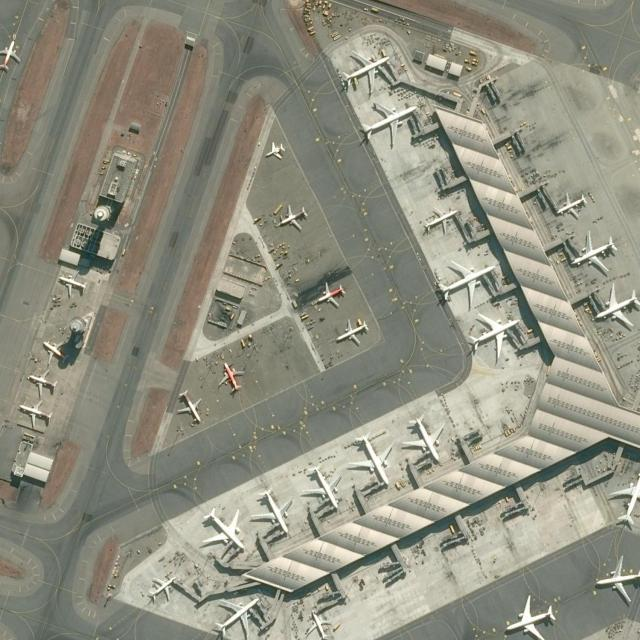Aircraft: (436, 262, 498, 312), (465, 312, 521, 363), (360, 101, 416, 149), (502, 594, 560, 640), (196, 507, 247, 558), (590, 558, 640, 609), (338, 52, 392, 98), (349, 437, 394, 491), (298, 463, 345, 514), (400, 413, 445, 466), (210, 595, 261, 640), (250, 487, 294, 539), (606, 467, 640, 532), (568, 232, 618, 274), (592, 287, 640, 329), (12, 402, 56, 434), (420, 206, 461, 238), (331, 317, 371, 348), (173, 391, 206, 425), (143, 573, 177, 605), (55, 270, 89, 300), (553, 192, 589, 220), (273, 204, 309, 232), (310, 282, 347, 308), (28, 368, 60, 398), (217, 363, 245, 397), (0, 38, 25, 76), (39, 338, 70, 366), (306, 613, 332, 640), (260, 141, 286, 165)
